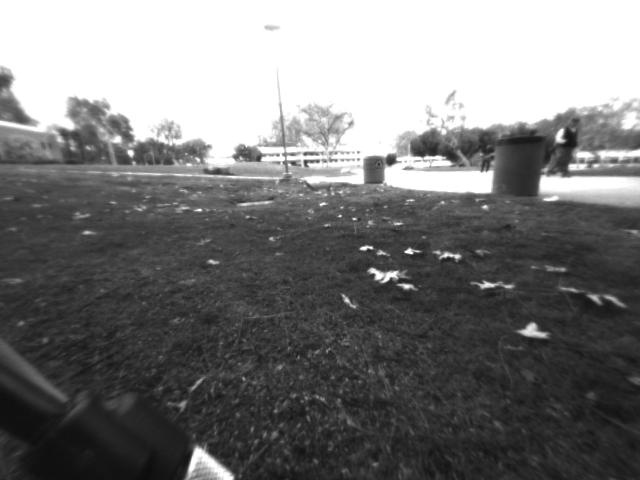trashcan: (490, 132, 553, 203), (359, 150, 388, 191)
